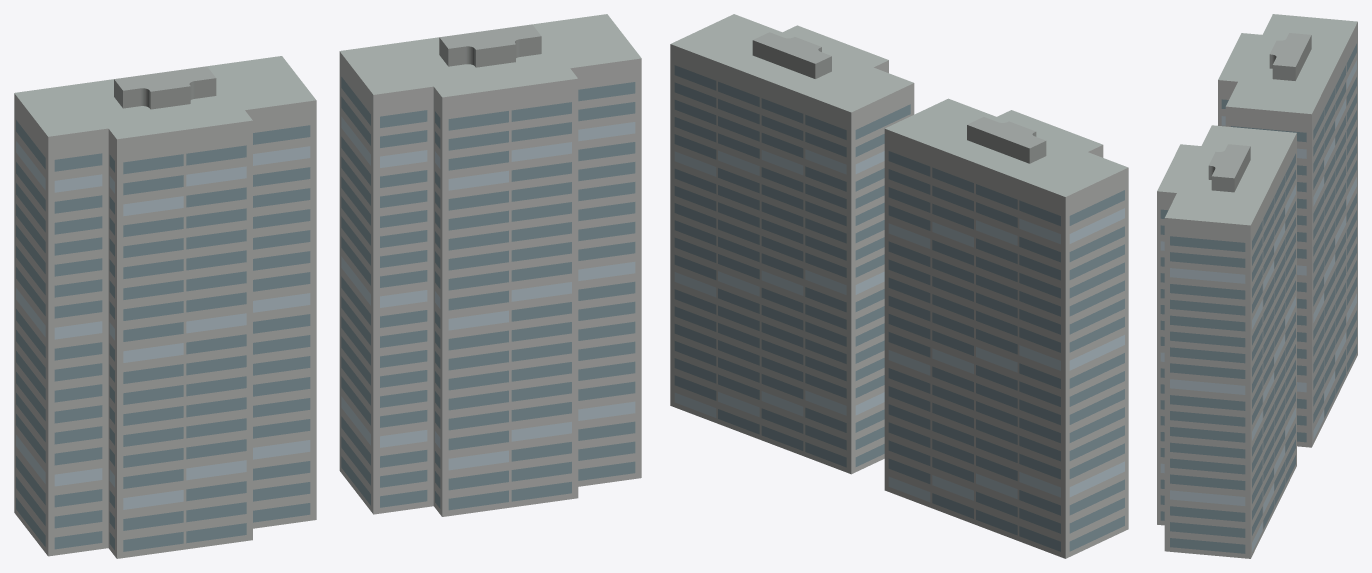
The model's file is apt-a15882008.glb.
3 views of the same model, side by side, from view 1: azimuth 30°, elevation 25°; view 2: azimuth 150°, elevation 25°; view 3: azimuth 270°, elevation 25° (orthographic). The views are drawn at different scales.
Parts seen in each view (by area): view 1: apt-a15882008; view 2: apt-a15882008; view 3: apt-a15882008.
Part boxes in pixels (<box>): apt-a15882008: <box>14,14,641,558</box>; apt-a15882008: <box>670,14,1128,558</box>; apt-a15882008: <box>1157,14,1357,558</box>.
Size of the model in its own units: 76.97 by 59 by 30.9.
